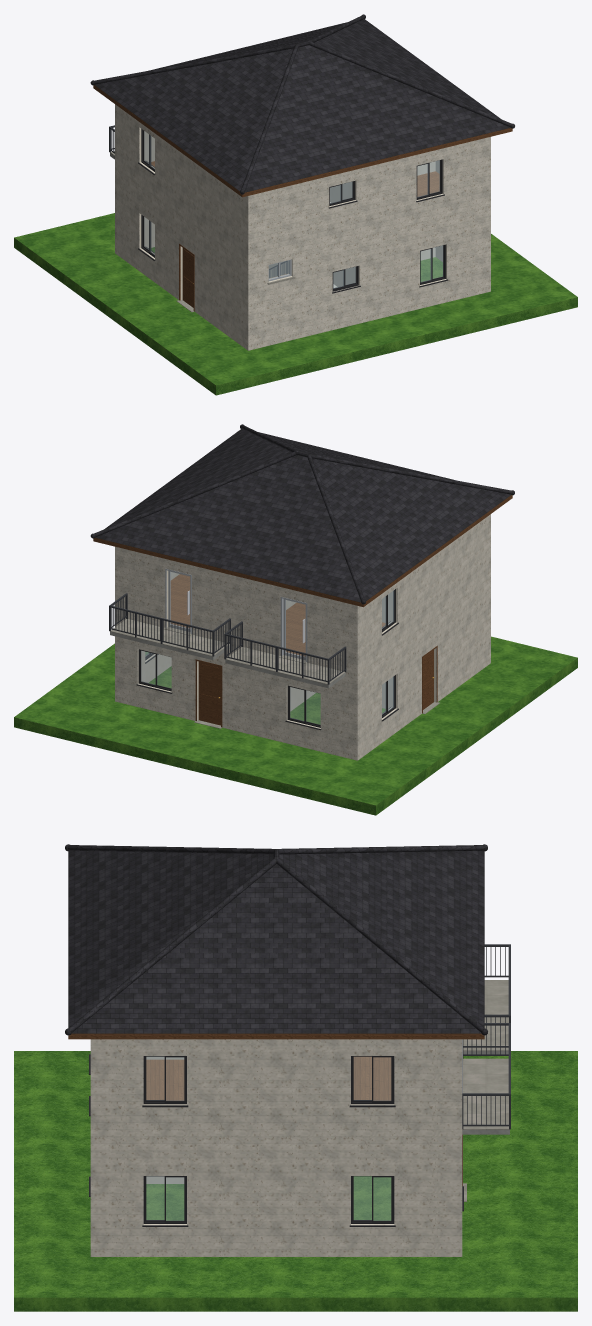
File: b_jp_family_house.gltf
The picture shows the model from 3 angles, top to bottom: view 1: azimuth 30°, elevation 25°; view 2: azimuth 150°, elevation 25°; view 3: azimuth 270°, elevation 25°; orthographic projection. The views are drawn at different scales.
Parts seen in each view (by area): view 1: S_jp_family_house, D_jp_family_house_F1_E1_Door0; view 2: S_jp_family_house, D_jp_family_house_F1_S2_Door0, D_jp_family_house_F2_S1_Door0, D_jp_family_house_F2_S0_Door0, D_jp_family_house_F1_E1_Door0; view 3: S_jp_family_house.
Part boxes in pixels (left/top/right/bottom): S_jp_family_house: left=14, top=14, right=577, bottom=395; D_jp_family_house_F1_E1_Door0: left=182, top=248, right=193, bottom=307; S_jp_family_house: left=14, top=424, right=577, bottom=815; D_jp_family_house_F1_S2_Door0: left=198, top=661, right=220, bottom=725; D_jp_family_house_F2_S1_Door0: left=283, top=599, right=305, bottom=660; D_jp_family_house_F2_S0_Door0: left=168, top=571, right=190, bottom=632; D_jp_family_house_F1_E1_Door0: left=423, top=650, right=434, bottom=709; S_jp_family_house: left=14, top=844, right=577, bottom=1311.
Bounding box in the file's own units: 15 × 9.52 × 14.5.
20 materials, 12 textured.
